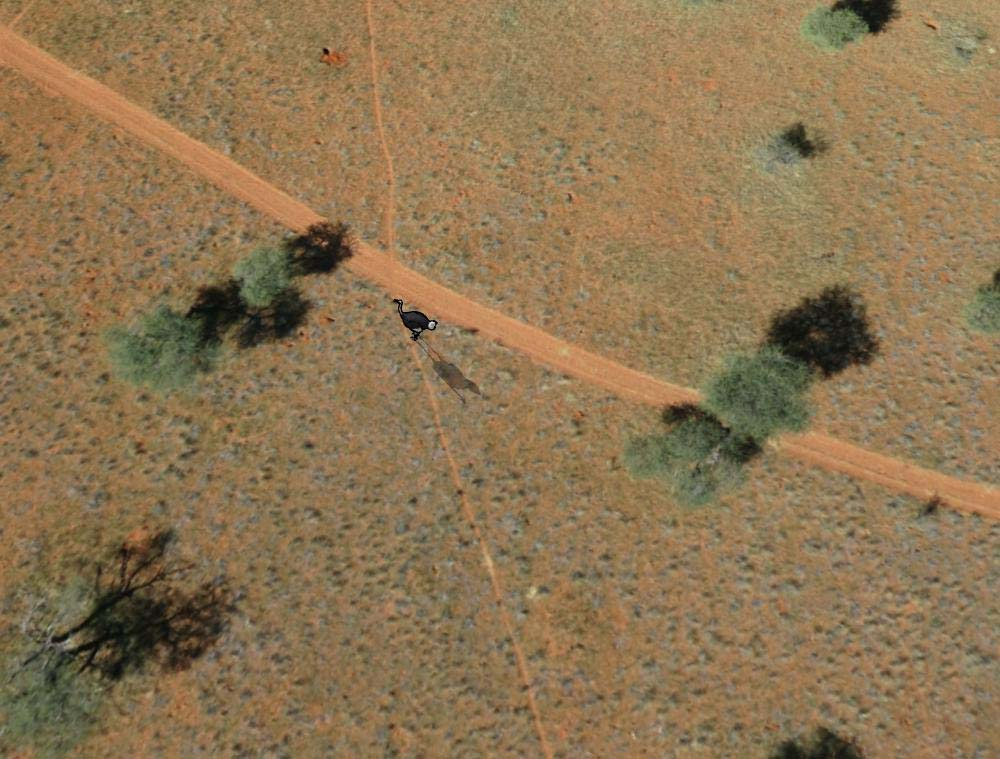ostrich: (390, 295, 442, 341)
